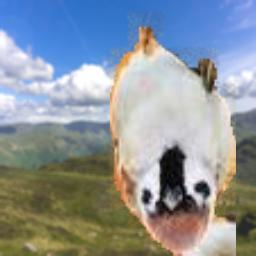Sparrow: (110, 0, 236, 256)
